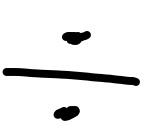div: (3, 31, 140, 121)
